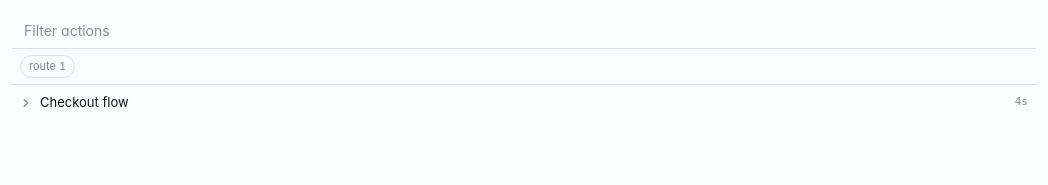
Test: ActionList — manual toggles survive group-chip changes › a manually expanded group stays expanded after toggling the route chip
Expected: the text "Click checkout" is not shown
Click the button named "Expand".
click(26, 102)  # box [18,94,34,110]
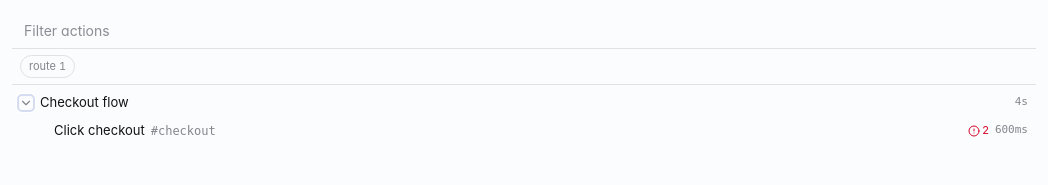
Expected: the text "Click checkout" is shown, [54,121,145,140]
Click the button "route 1".
click(48, 66)  # box [20,55,75,78]
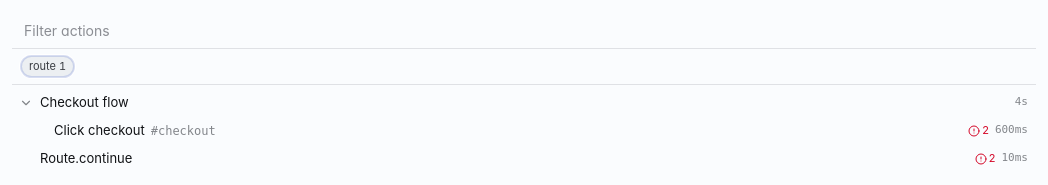
Expected: the text "Click checkout" is shown, [54,121,145,140]
Expected: the text "Route.continue" is shown, [40,149,132,168]
And back off again.
Click the button "route 1".
click(48, 66)  # box [20,55,75,78]
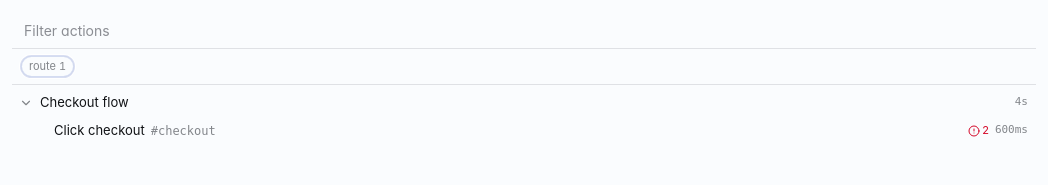
Expected: the text "Click checkout" is shown, [54,121,145,140]
Expected: the option "Route.continue" is gone
